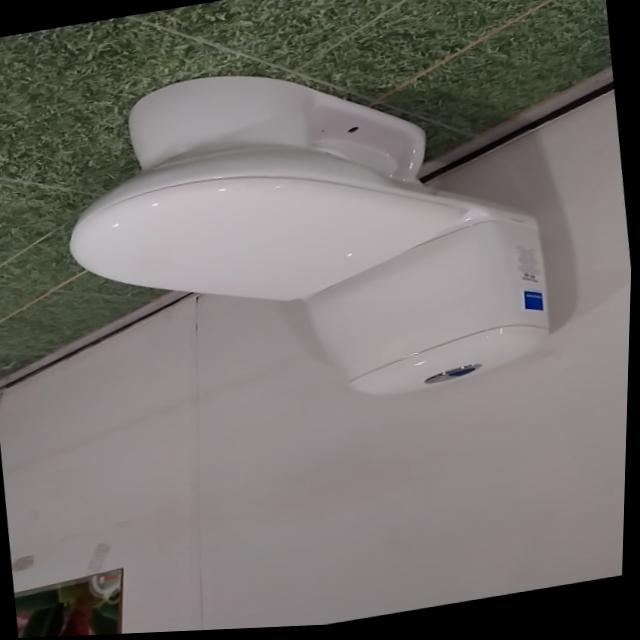toilet: (46, 27, 566, 450)
